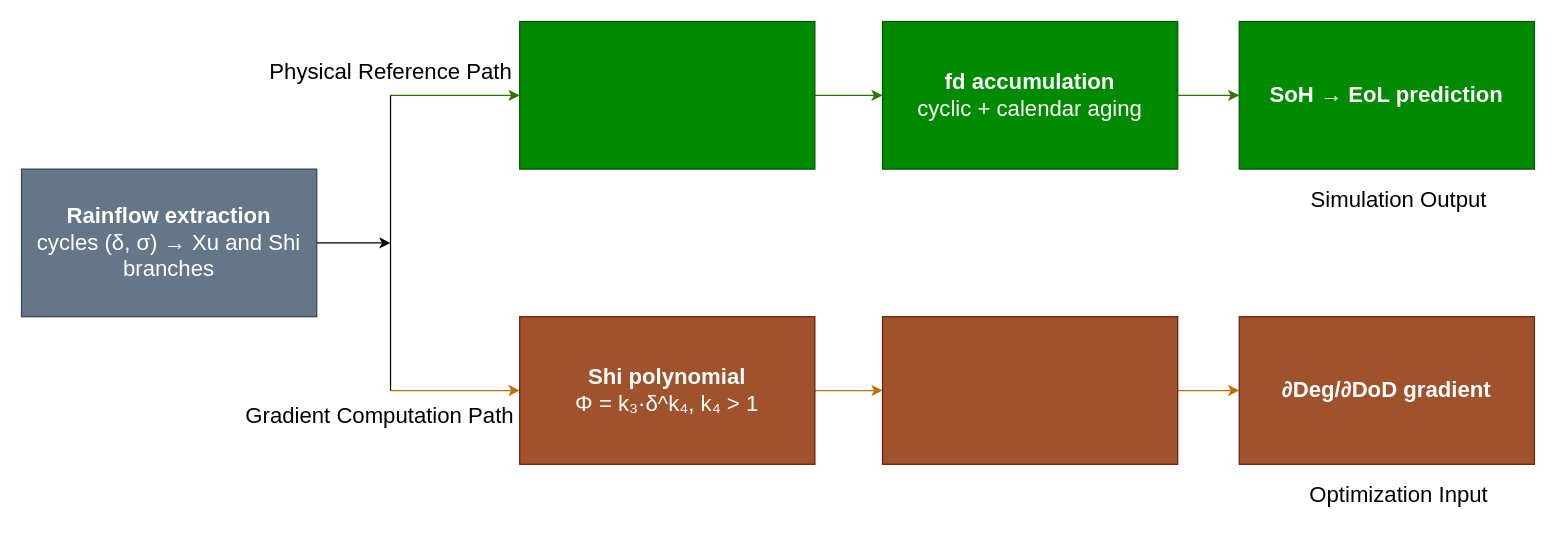
Image size: 1556x535. Some labels were removed from this diagram. The shapes that lost their labels are listed below. From the top down, each one's centre as x and y in pixels, then its label:
the point at 666,94: Xu stress function S δ (δ) · S σ (σ) per cycle
the point at 1029,389: Convex cost function convexity guaranteed
